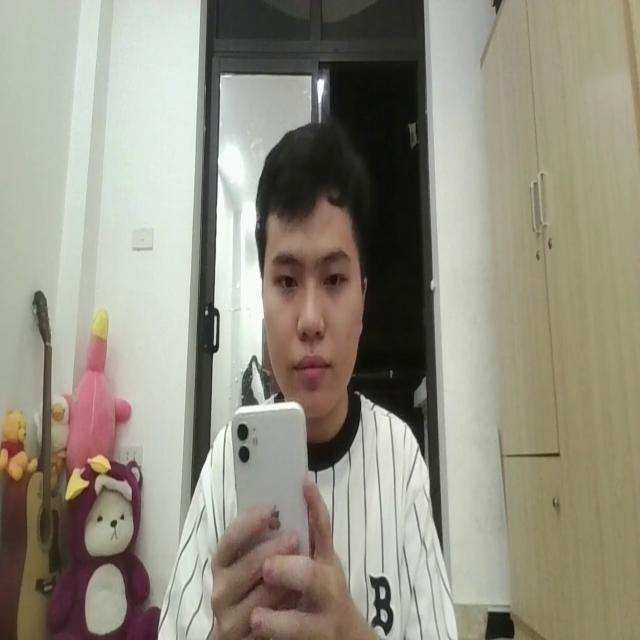phone: (229, 398, 312, 567)
student: (169, 113, 455, 640)
